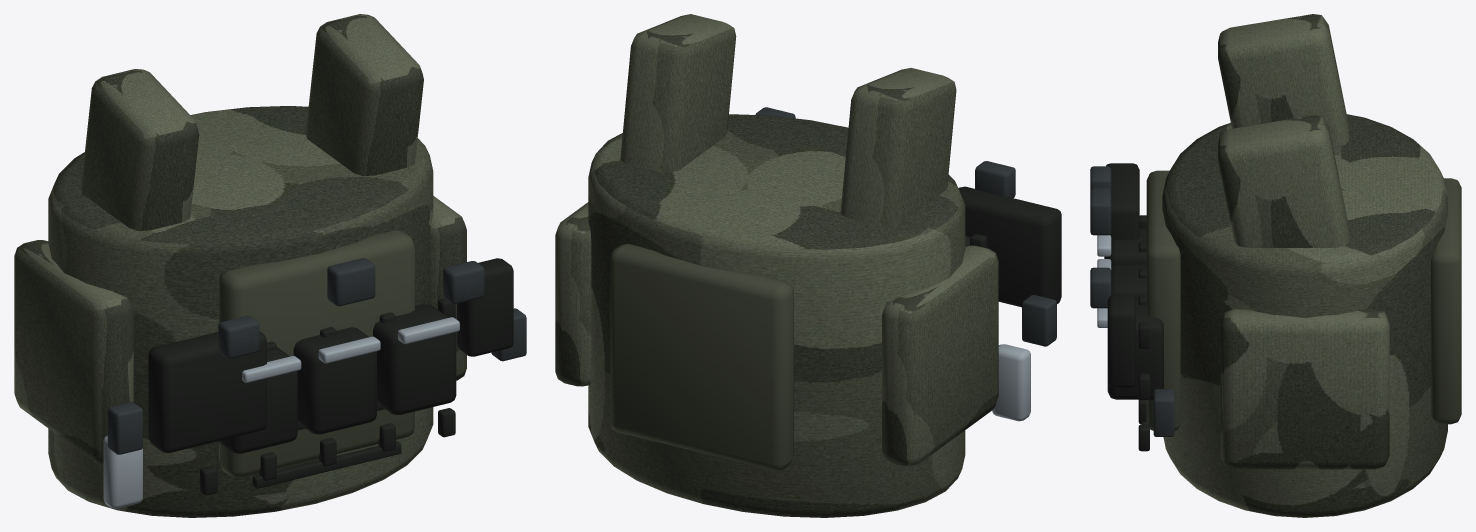
The model's file is gear_armor_paca.glb.
3 renders of one model, left to right at view 1: azimuth 30°, elevation 25°; view 2: azimuth 150°, elevation 25°; view 3: azimuth 270°, elevation 25°, orthographic. The views are drawn at different scales.
Parts seen in each view (by area): view 1: Gear; view 2: Gear; view 3: Gear.
Part boxes in pixels (box(x1,y1,x2,y2)): Gear: box(14, 14, 526, 517); Gear: box(555, 14, 1061, 517); Gear: box(1090, 14, 1461, 517).
Bounding box in the file's own units: 0.62 × 0.5819 × 0.5275.
Materials: 5 (2 with a texture image).
